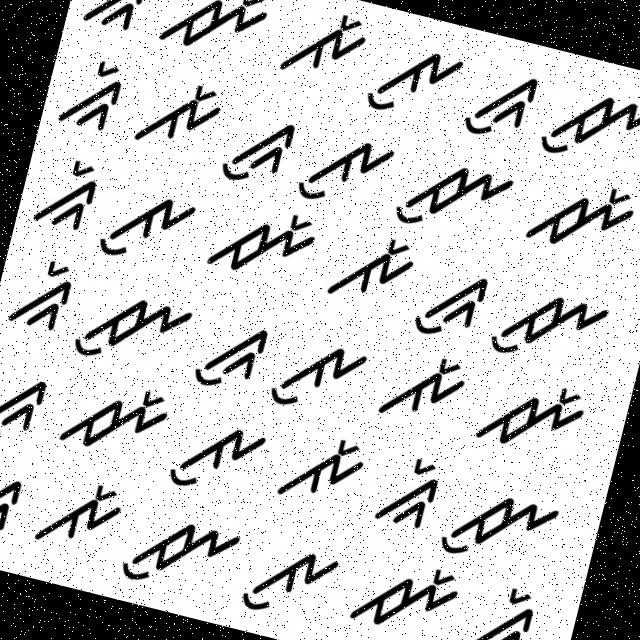ar: (128, 66, 234, 170), (364, 342, 476, 438), (318, 220, 422, 320), (271, 420, 372, 520), (274, 0, 375, 96), (30, 468, 129, 563)
aw: (360, 22, 470, 137), (88, 171, 201, 275), (238, 530, 344, 634), (163, 406, 270, 506), (290, 122, 398, 220), (260, 326, 370, 422)
nggar: (47, 41, 131, 144), (364, 444, 448, 542), (23, 146, 103, 244), (1, 248, 81, 342), (458, 573, 544, 639), (74, 0, 160, 41)
nggaw: (455, 51, 547, 160), (406, 249, 500, 351), (187, 309, 273, 401), (217, 101, 300, 196), (0, 356, 56, 456), (0, 457, 31, 558)
njar: (464, 367, 595, 468), (202, 192, 328, 294), (56, 367, 176, 473), (521, 166, 639, 269), (346, 540, 468, 639), (152, 0, 280, 74)
njaw: (486, 276, 626, 383), (386, 142, 520, 249), (113, 500, 247, 605), (436, 479, 564, 577), (72, 283, 198, 382), (534, 71, 639, 186)
